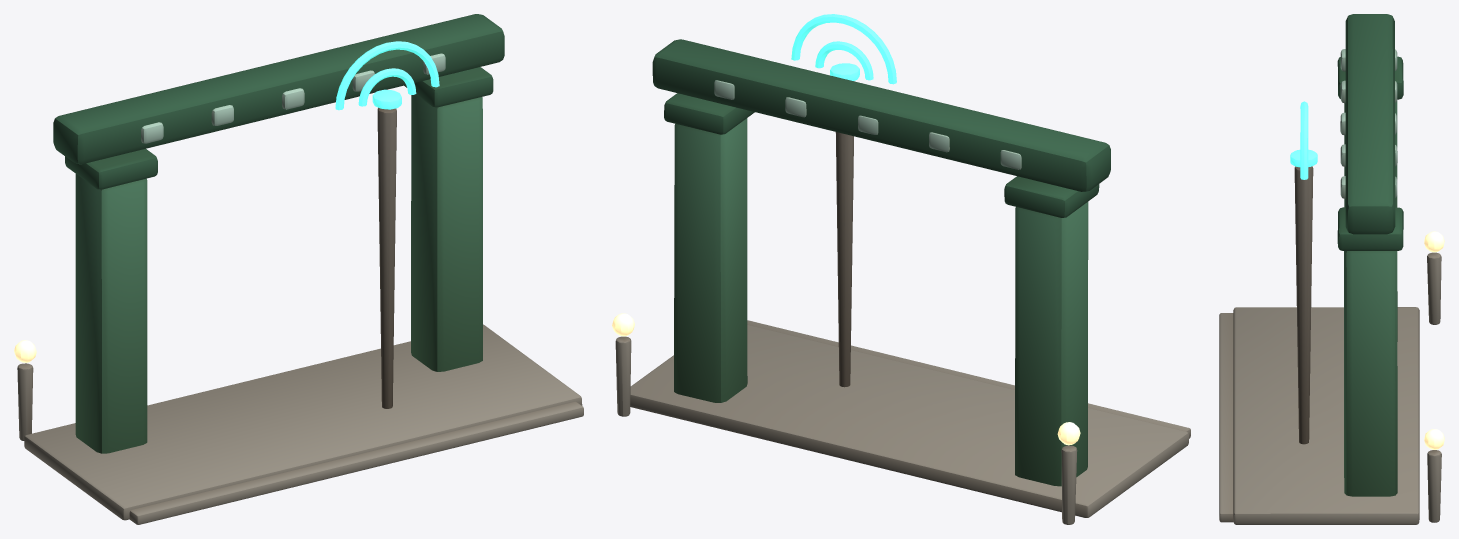
3 renders of one model, left to right at view 1: azimuth 30°, elevation 25°; view 2: azimuth 150°, elevation 25°; view 3: azimuth 270°, elevation 25°, orthographic. The views are drawn at different scales.
Parts seen in each view (by area): view 1: gate_8985236e; view 2: gate_8985236e; view 3: gate_8985236e.
Boxes of the visible parts, bbox=[...] form: gate_8985236e: bbox=[14, 14, 583, 524]; gate_8985236e: bbox=[612, 14, 1190, 524]; gate_8985236e: bbox=[1219, 14, 1444, 524].
Size of the model in its own units: 5.54 by 4.35 by 2.55.
